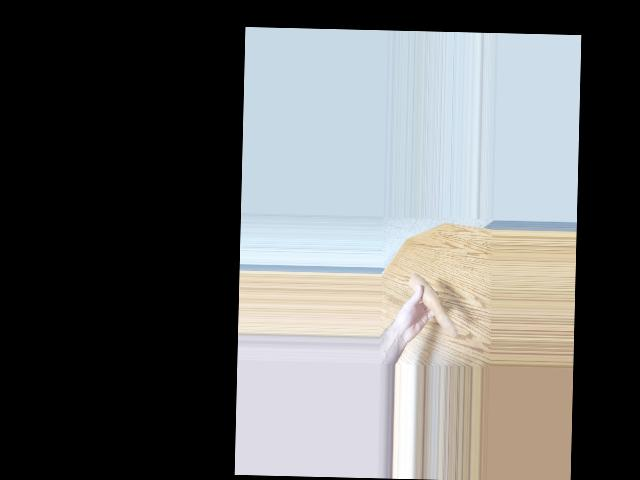sweet_potato: (406, 278, 457, 336)
